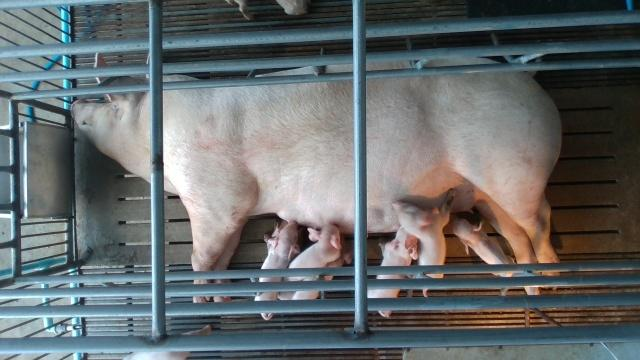piglet: (393, 188, 456, 297), (366, 227, 418, 318), (277, 225, 340, 300), (256, 220, 301, 320), (452, 215, 515, 278)
sow-sleep-lactate: (71, 58, 560, 302)
